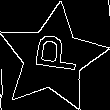P_W: (25, 36, 80, 80)
